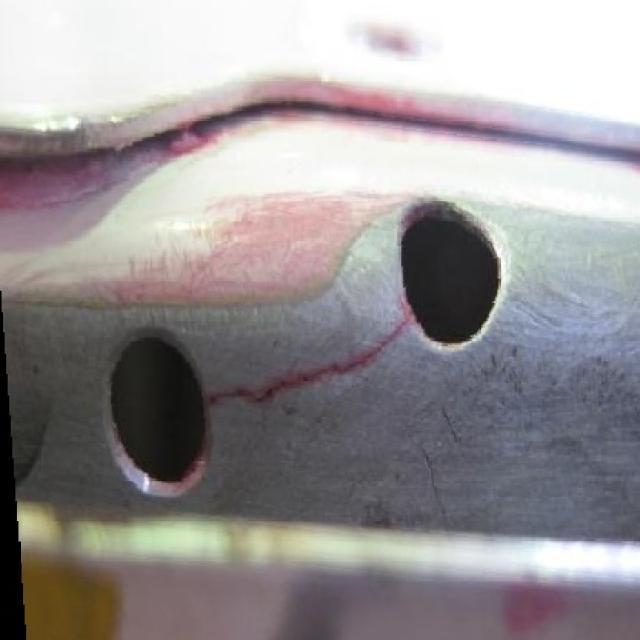crack: (285, 357, 365, 382), (365, 315, 411, 357), (208, 382, 285, 407)
